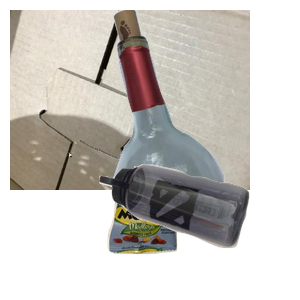cardboard: (10, 10, 250, 190)
glass: (89, 10, 300, 190)
plastic: (97, 162, 300, 300)
trash: (105, 152, 280, 300)
